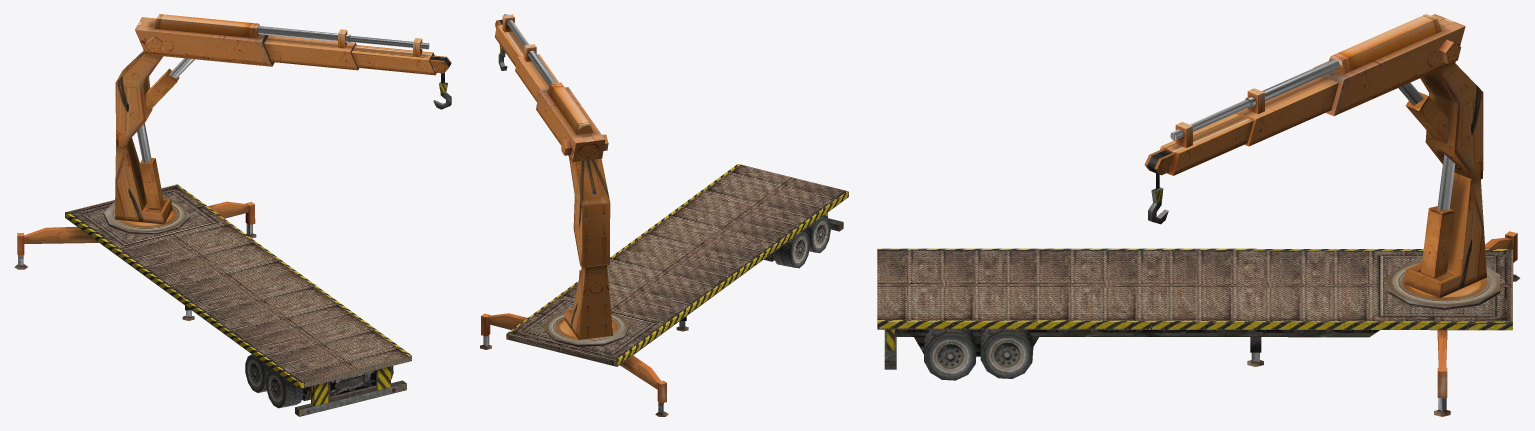
File: p54_51_trailer_crane.glb
3 views of the same model, side by side, from view 1: azimuth 30°, elevation 25°; view 2: azimuth 150°, elevation 25°; view 3: azimuth 270°, elevation 25° (orthographic). The views are drawn at different scales.
Parts seen in each view (by area): view 1: Body; view 2: Body; view 3: Body.
Boxes of the visible parts, <box> form: Body: <box>14,14,451,416</box>; Body: <box>480,14,848,416</box>; Body: <box>877,14,1520,416</box>.
Size of the model in its own units: 9.79 by 7.62 by 13.18.
Materials: 1 (1 with a texture image).
